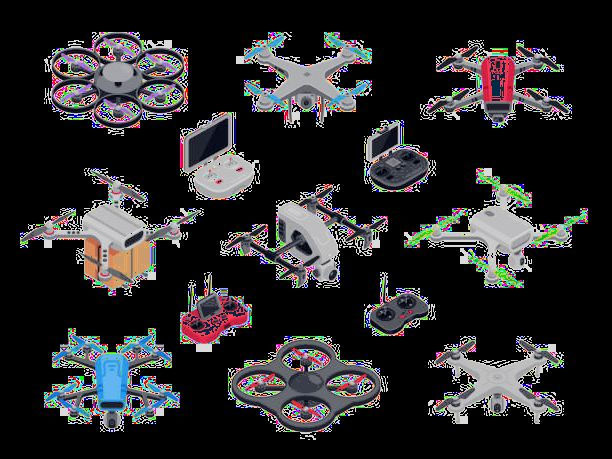Drone: (19, 167, 198, 281), (426, 181, 591, 292), (232, 188, 387, 284), (232, 336, 381, 431), (48, 29, 182, 130), (425, 44, 579, 126), (428, 337, 567, 427), (237, 30, 379, 114), (48, 337, 172, 422)
